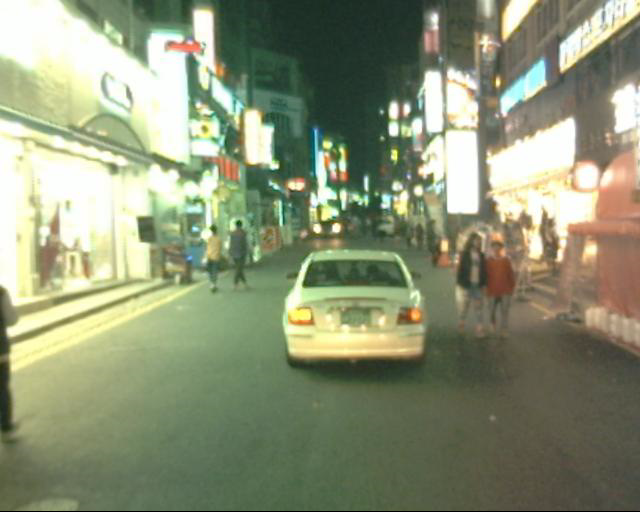person: (453, 237, 490, 350), (481, 237, 514, 343), (227, 215, 249, 285), (207, 228, 228, 290), (426, 223, 446, 270)
